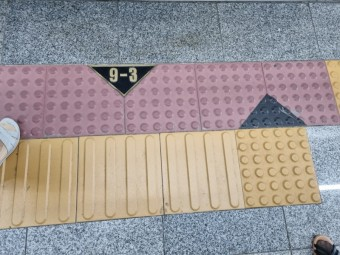guideBlock: (76, 136, 161, 215), (3, 142, 79, 222), (159, 133, 245, 203)
warningBlock: (47, 68, 125, 137), (242, 134, 311, 198), (130, 59, 195, 125), (198, 63, 268, 124), (272, 62, 337, 124), (3, 67, 46, 137)
